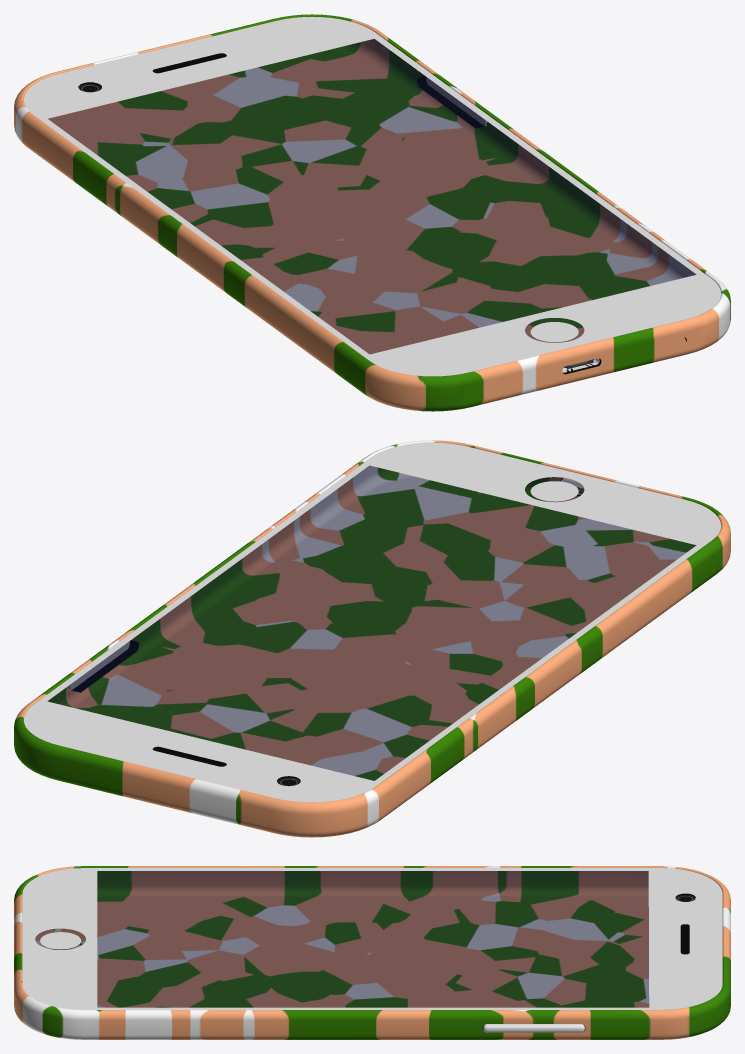
File: Smartphone_T.fbx
3 renders of one model, top to bottom at view 1: azimuth 30°, elevation 25°; view 2: azimuth 150°, elevation 25°; view 3: azimuth 270°, elevation 25°, orthographic. The views are drawn at different scales.
Parts seen in each view (by area): view 1: Smartphone_T; view 2: Smartphone_T; view 3: Smartphone_T.
Part boxes in pixels (<box>): Smartphone_T: <box>14,14,730,411</box>; Smartphone_T: <box>14,440,730,837</box>; Smartphone_T: <box>14,866,730,1039</box>.
Bounding box in the file's own units: 0.1284 × 0.2566 × 0.0128.
